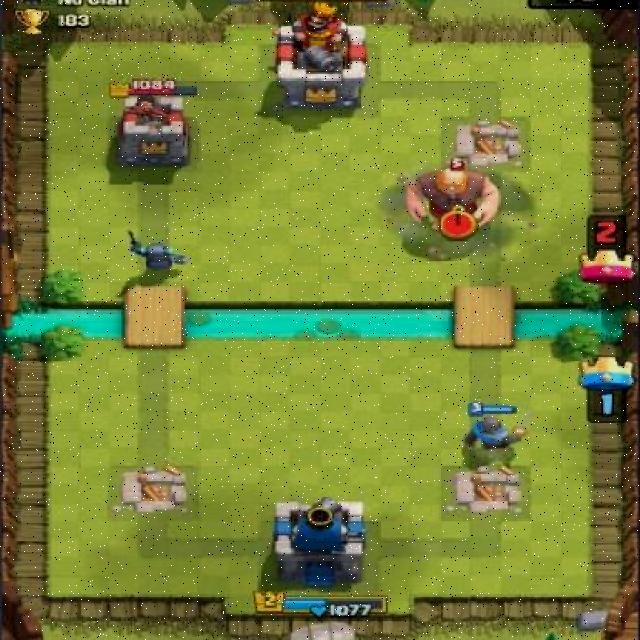Enemy-Giant: (403, 156, 503, 238)
Player-Knight: (458, 398, 532, 456)
Player-MiniPEKKA: (124, 228, 191, 275)
